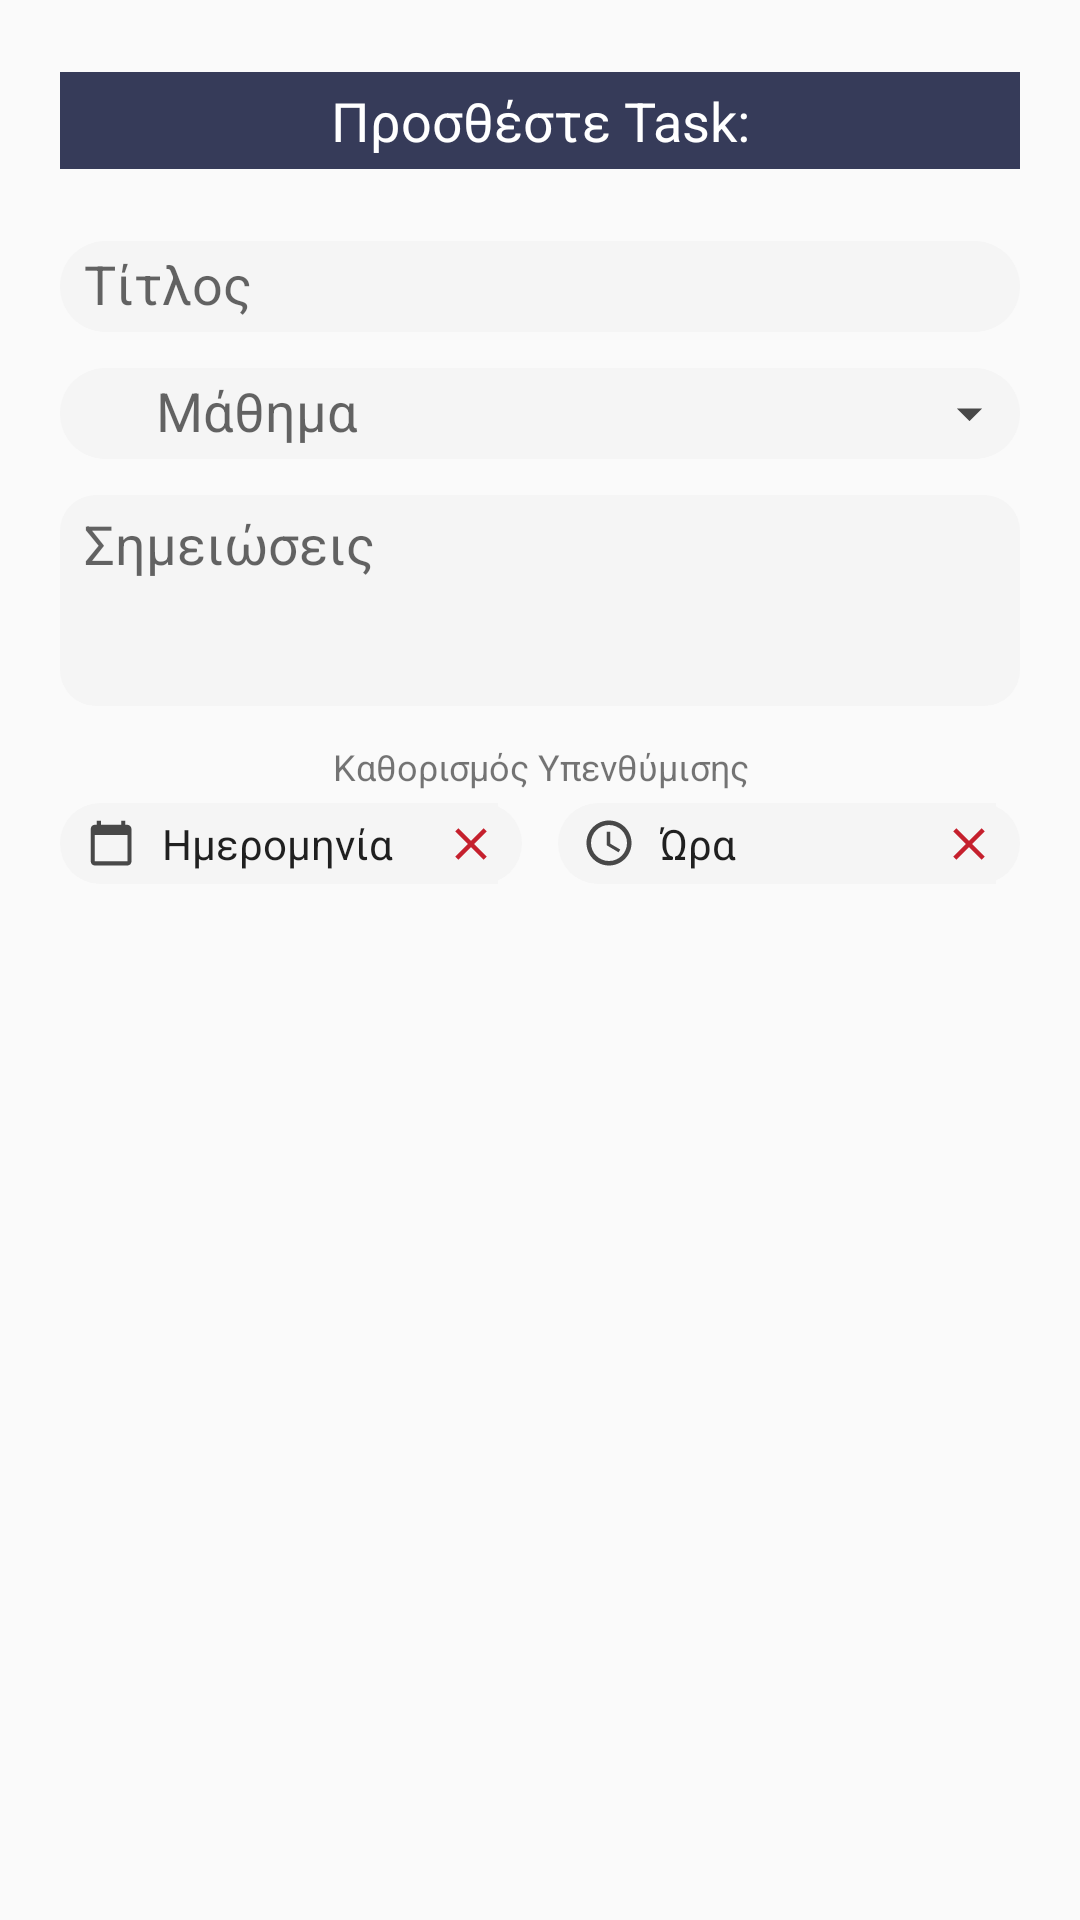

Icon click points for this 1080*1920 phone screenshot, format (x=x, y=y):
arrow drop down: (x=969, y=414)
clear: (x=471, y=844), (x=969, y=844)
